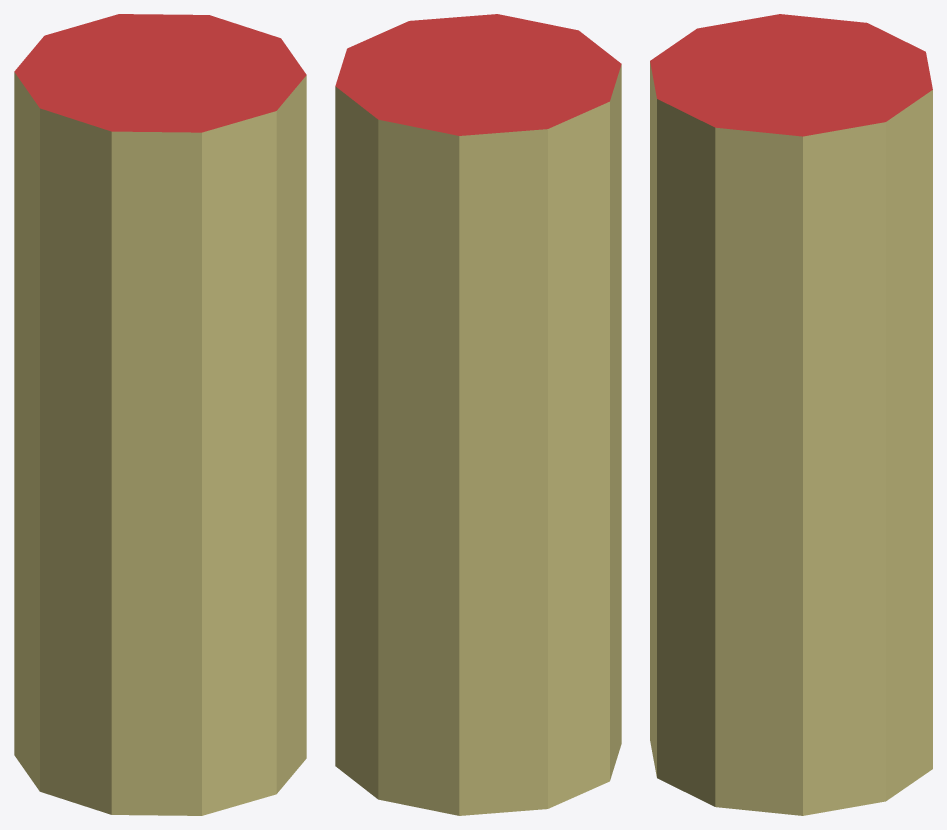
3 views of the same model, side by side, from view 1: azimuth 30°, elevation 25°; view 2: azimuth 150°, elevation 25°; view 3: azimuth 270°, elevation 25° (orthographic).
Size of the model in its own units: 4.43 by 4.32 by 11.46.
